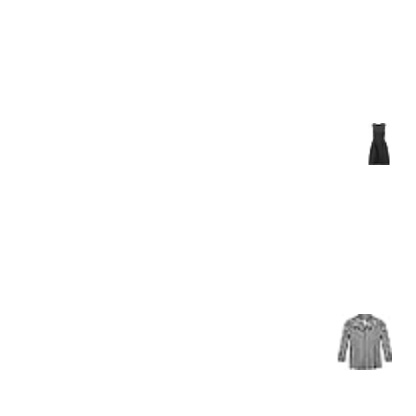Dress: (358, 123, 400, 165)
Shirt: (336, 314, 392, 370)
